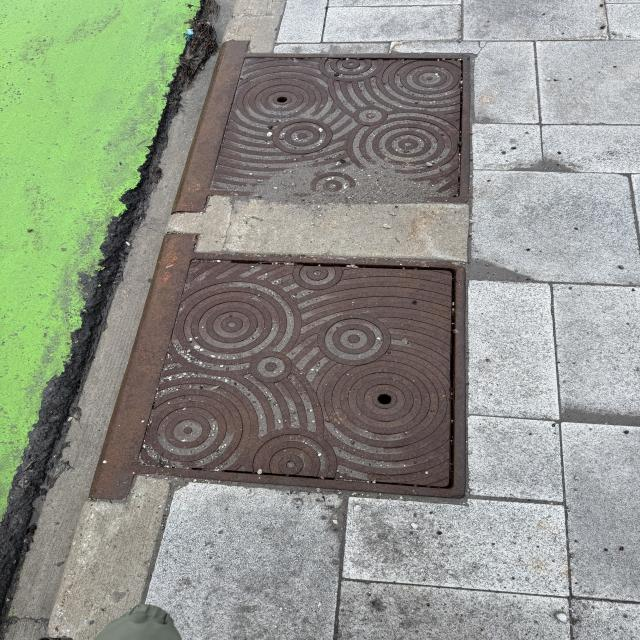Manhole: (152, 252, 466, 500), (199, 51, 472, 197)
